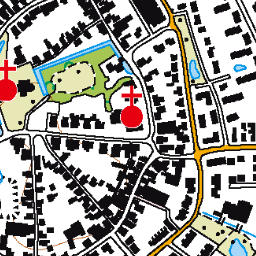church: (116, 83, 146, 130), (1, 58, 21, 103)
